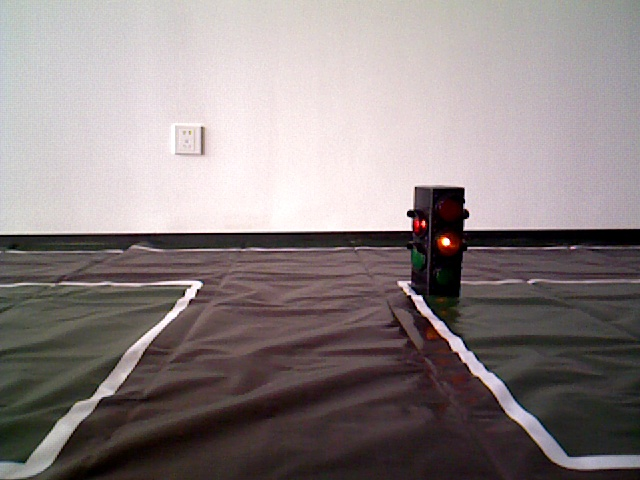yellow: (412, 186, 464, 292)
